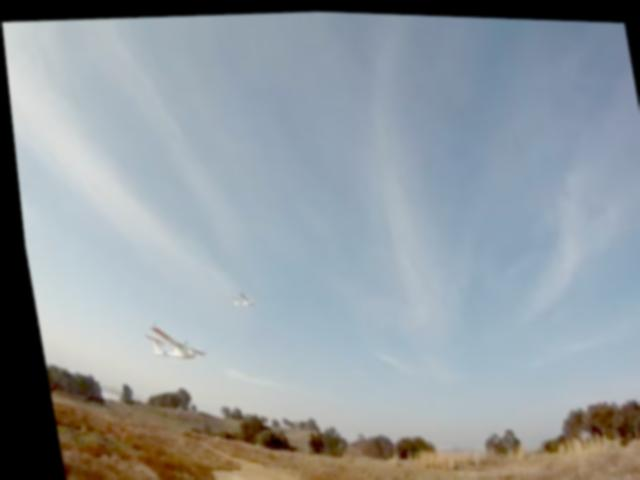uav: (130, 311, 207, 374), (217, 281, 255, 315)
